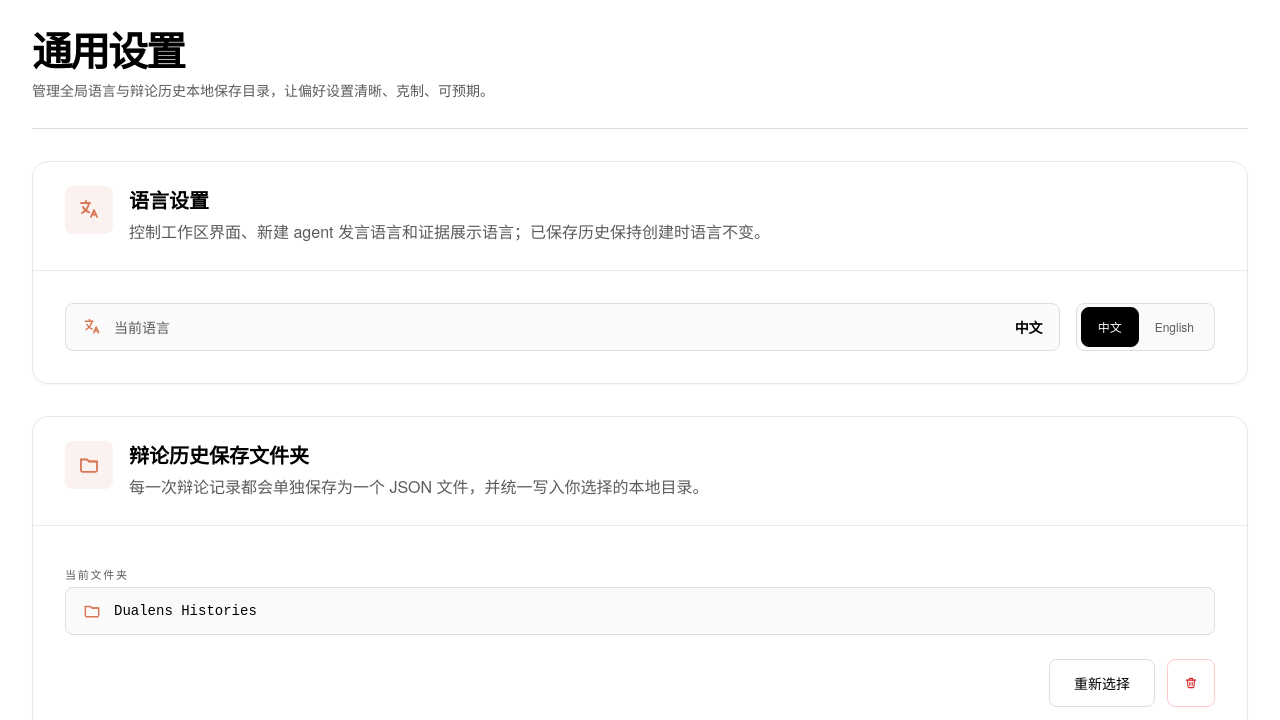
SettingsPage › clears the saved history folder from the settings card
Expected: the text "Dualens Histories" is shown, x1=114 y1=600 x2=257 y2=620
Click the button named "清除保存目录" at {"x": 1191, "y": 682}, box x1=1167 y1=658 x2=1215 y2=706
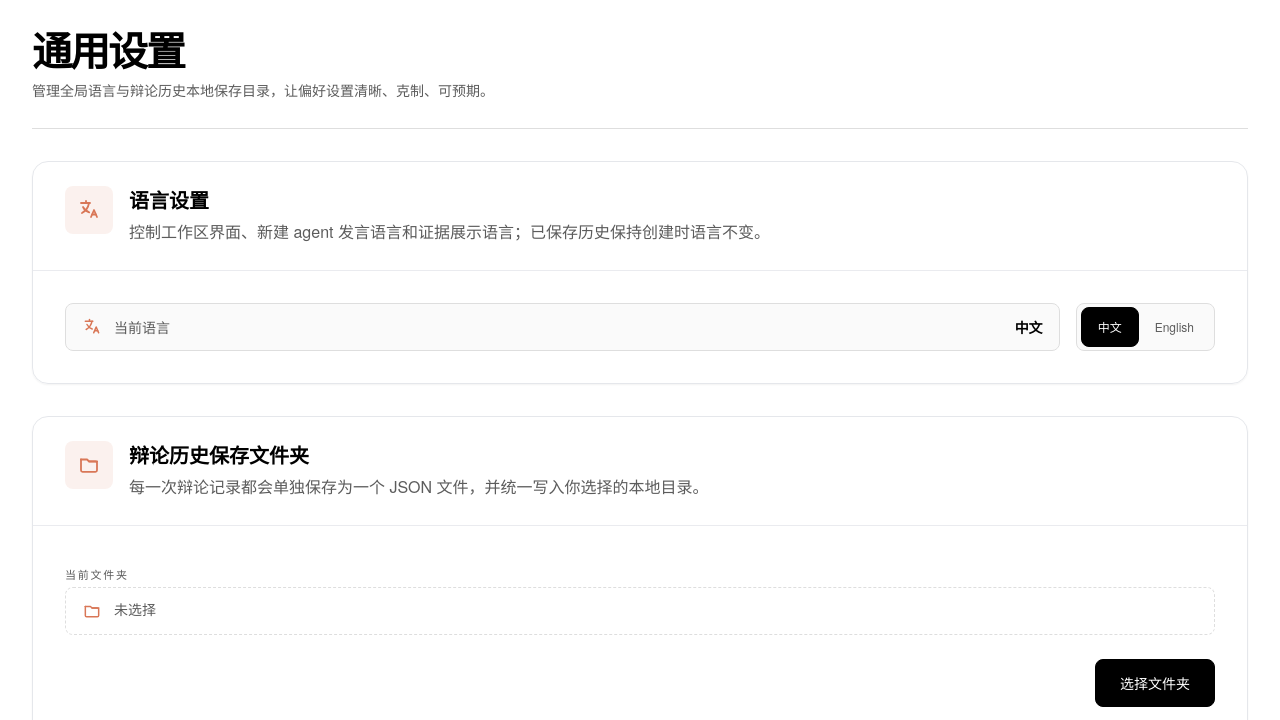
Expected: the text "未选择" is shown, x1=114 y1=600 x2=156 y2=620
Expected: the button "清除保存目录" is gone
